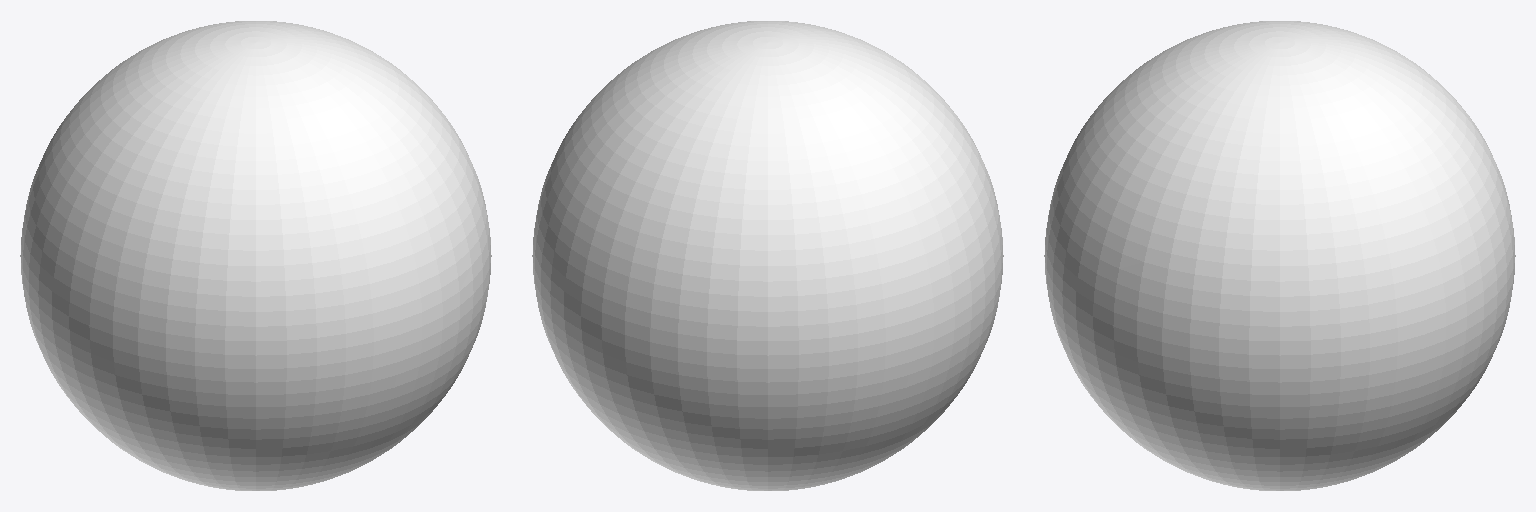
File: stars.obj
3 views of the same model, side by side, from view 1: azimuth 30°, elevation 25°; view 2: azimuth 150°, elevation 25°; view 3: azimuth 270°, elevation 25° (orthographic).
Parts seen in each view (by area): view 1: single_mesh_object; view 2: single_mesh_object; view 3: single_mesh_object.
Part boxes in pixels (bbox=[...]): single_mesh_object: bbox=[20, 21, 491, 490]; single_mesh_object: bbox=[532, 21, 1003, 490]; single_mesh_object: bbox=[1044, 21, 1515, 490].
Size of the model in its own units: 2 by 2 by 2.